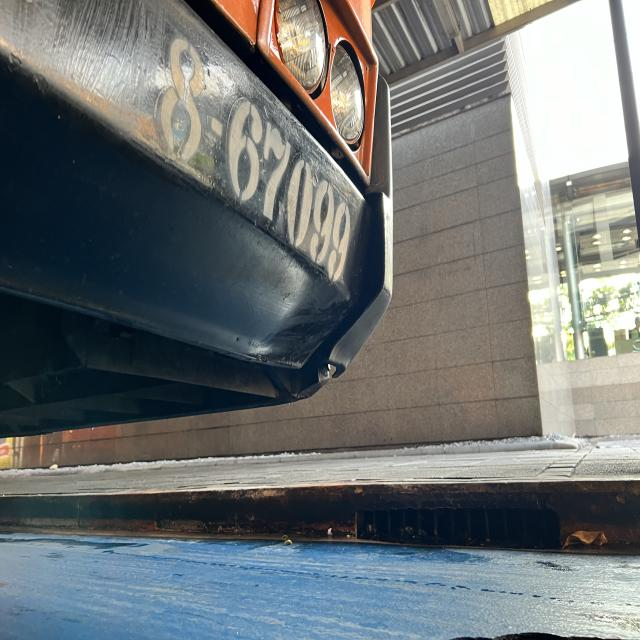BMTA-bus: (0, 0, 398, 443)
